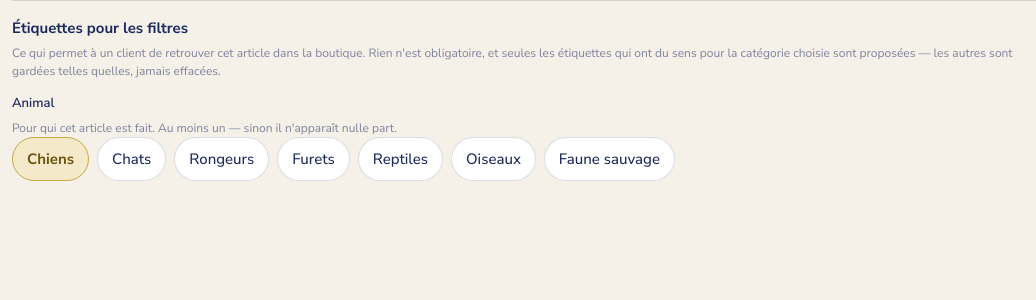
Test: « Espèce » suit l'animal, et rien d'autre (APP 31 bis) › cocher « Rongeurs » fait apparaître Espèce, même sur une litière
This screenshot has width=1036, height=300.
Check: the button "Lapin" is not shown
Click the button "Rongeurs": [222, 159] box 174,137 -> 269,181
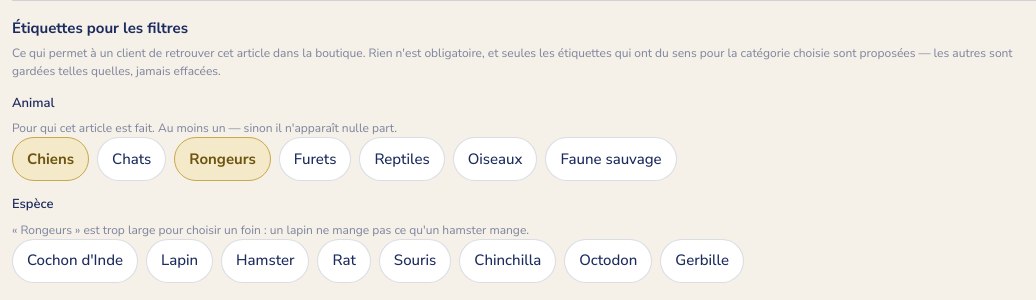
Check: the button "Lapin" is shown, box 146,238 -> 213,282
Check: the text "Espèce" is shown, box 12,195 -> 54,213
